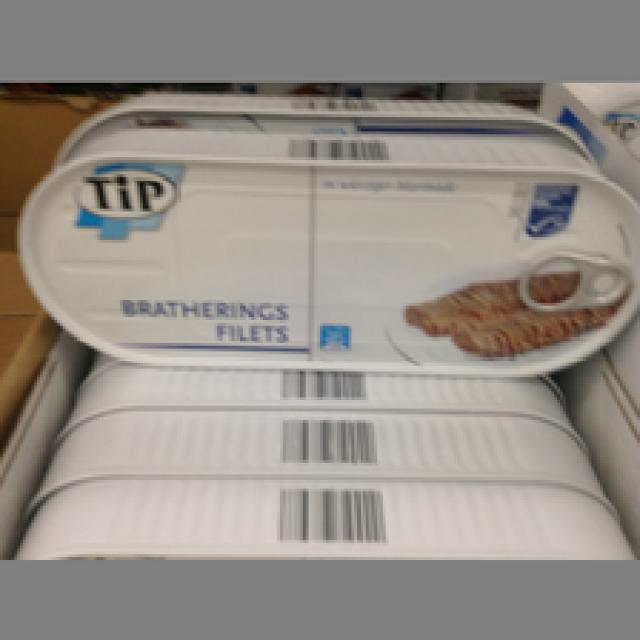groceries: (20, 125, 637, 368)
